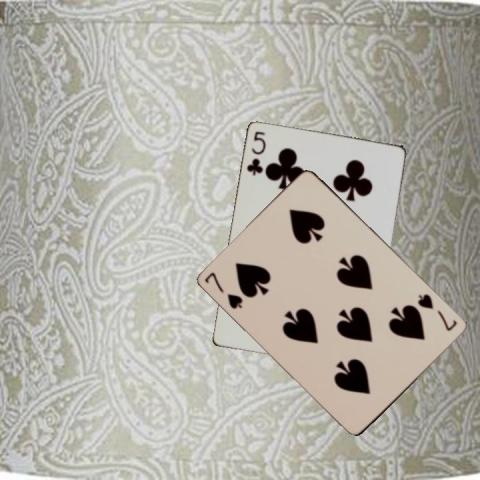5c: (244, 129, 268, 178)
7s: (415, 290, 459, 332), (201, 269, 245, 310)
